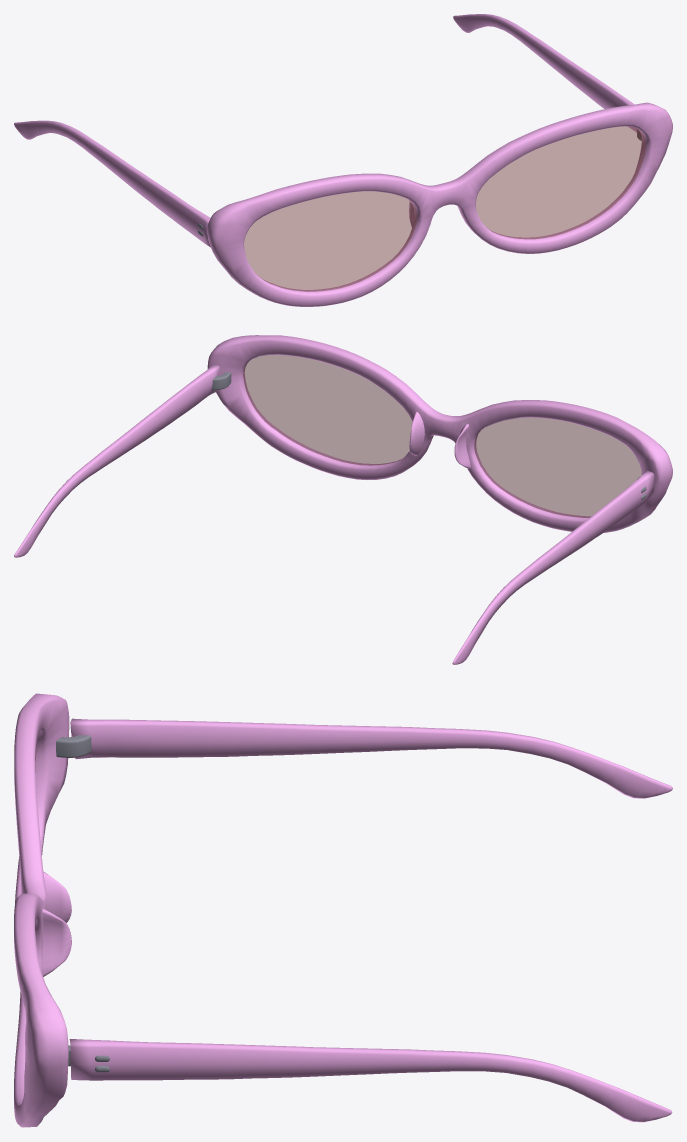
Rendered from plum.glb.
3 renders of one model, top to bottom at view 1: azimuth 30°, elevation 25°; view 2: azimuth 150°, elevation 25°; view 3: azimuth 270°, elevation 25°, orthographic. The views are drawn at different scales.
Parts seen in each view (by area): view 1: model_6.008; view 2: model_6.008; view 3: model_6.008.
Boxes of the visible parts, left/top/right/bottom form: model_6.008: left=14, top=14, right=672, bottom=306; model_6.008: left=14, top=335, right=672, bottom=664; model_6.008: left=14, top=693, right=672, bottom=1127.
Bounding box in the file's own units: 2.21 × 0.5738 × 1.81.
